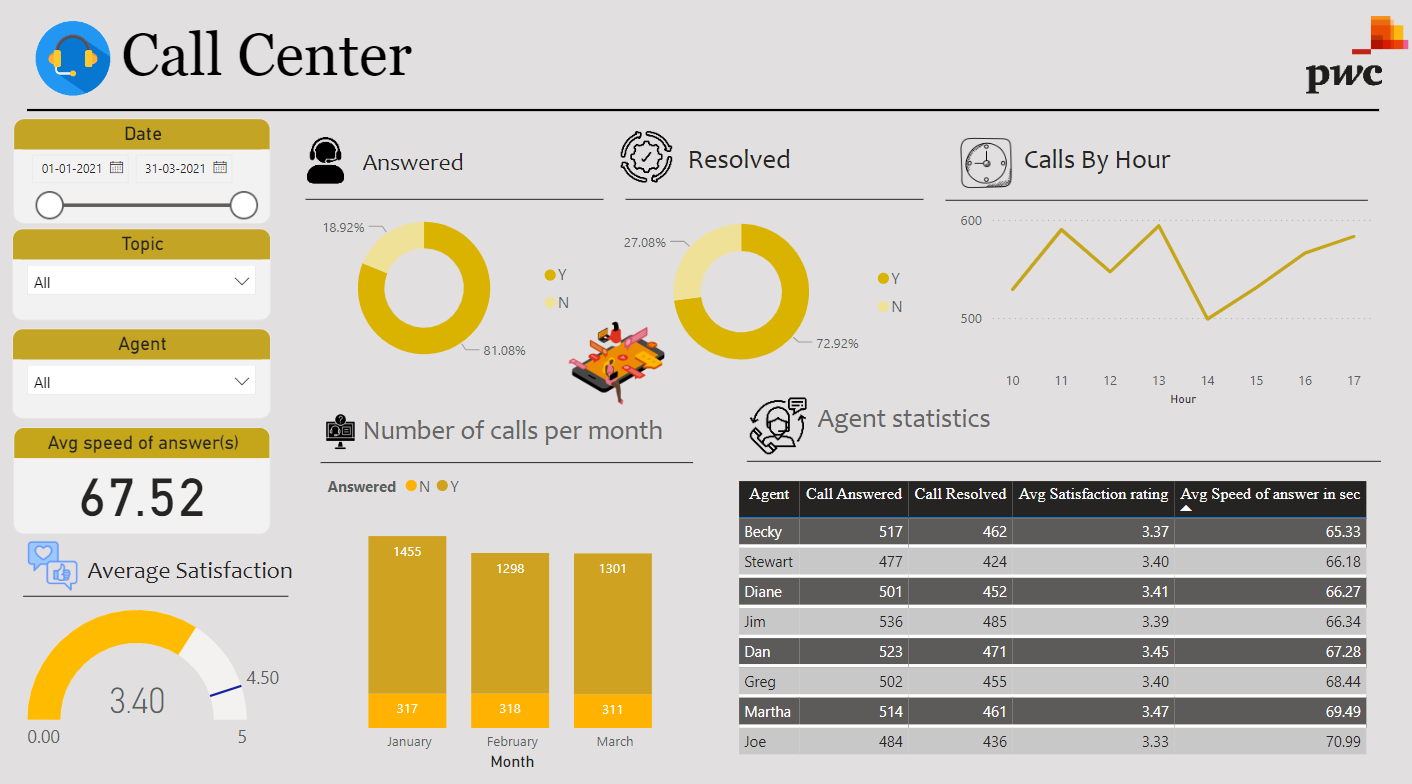

This screenshot's page, from the dashboard's own definition file:
{"tool":"powerbi","page":{"name":"Page 1","canvas":[1280,720],"ordinal":0},"visuals":[{"type":"image","box":[1173.9,0,106.2,107.4],"z":0},{"type":"shape","box":[26.9,95.4,1219.2,12.2],"z":1000},{"type":"textbox","box":[107.6,17.1,310.6,74.6],"z":2000},{"type":"image","box":[29,16.9,78.4,77.2],"z":3000},{"type":"donutChart","fields":{"Category":["Call center data.Answered (Y/N)"],"Y":["Call center data.Call Id"]},"box":[272.7,173.6,258,178],"z":4000},{"type":"tableEx","fields":{"Values":["Call center data.Agent","Call center data.No. of call Answered","Call center data.No. of call Resolved","Call center data.Satisfaction rating","Call center data.Speed of answer in seconds"]},"box":[662.8,431.7,583.3,260.5],"z":5000},{"type":"gauge","title":"Average Satisfaction","fields":{"Y":["Call center data.Satisfaction rating"],"TargetValue":["Call center data.Target Satisfaction Rating"],"MaxValue":["Sum(Call center data.Satisfaction rating)1"]},"box":[22.5,533.1,242.3,170.2],"z":6000},{"type":"donutChart","fields":{"Category":["Call center data.Resolved"],"Y":["Call center data.Call Id"]},"box":[544.8,178.4,286.8,175.6],"z":7000},{"type":"basicShape","box":[267.8,162.6,288.6,40.4],"z":8000},{"type":"textbox","box":[324.1,130.8,122.3,42.8],"z":9000},{"type":"image","box":[267.8,110.1,56.3,73.4],"z":10000},{"type":"basicShape","box":[556.4,162.6,288.6,40.4],"z":11000},{"type":"image","box":[556.4,116.2,57.5,56.3],"z":12000},{"type":"textbox","box":[617.5,126,117.4,42.8],"z":13000},{"type":"slicer","title":"Date","fields":{"Values":["Call center data.Date"]},"box":[14.7,108.8,232.3,95.4],"z":14000},{"type":"basicShape","box":[13.5,519.7,259.2,41.6],"z":15000},{"type":"textbox","box":[77,498.9,216.4,41.6],"z":16000},{"type":"image","box":[22,484.2,55,56.3],"z":17000},{"type":"slicer","title":"Topic","fields":{"Values":["Call center data.Topic"]},"box":[13.5,209,233.6,83.2],"z":18000},{"type":"slicer","title":"Agent","fields":{"Values":["Call center data.Agent"]},"box":[13.5,299,233.6,81.9],"z":19000},{"type":"card","title":"Avg speed of answer(s)","fields":{"Values":["Call center data.Speed of answer in seconds"]},"box":[14.7,387.6,232.3,96.6],"z":20000},{"type":"textbox","box":[920.8,126.2,269,42.5],"z":21000},{"type":"columnChart","fields":{"Category":["Call center data.Date.Variation.Date Hierarchy.Month"],"Y":["Call center data.Call Id"],"Series":["Call center data.Answered (Y/N)"]},"box":[293.5,420.7,343.6,282.5],"z":22000},{"type":"basicShape","box":[845.3,163.3,400.7,39.8],"z":23000},{"type":"image","box":[861.8,118,59,61.7],"z":24000},{"type":"basicShape","box":[666.4,404.8,591.9,28.1],"z":25000},{"type":"image","box":[465.9,264.1,196.9,122.3],"z":26000},{"type":"textbox","box":[734.9,359.5,193.2,50.1],"z":27000},{"type":"image","box":[673.8,353.4,61.1,66],"z":28000},{"type":"textbox","box":[324.1,370.5,298.4,47.7],"z":29000},{"type":"image","box":[278.8,366.8,62.4,51.4],"z":30000},{"type":"basicShape","box":[281.3,398.6,355.8,41.6],"z":31000},{"type":"lineChart","fields":{"Category":["Call center data.Call Hour"],"Y":["Call center data.Call Id"]},"box":[863.1,186.6,382.8,186.6],"z":32000}]}

Visuals, with their boxes in screenshot pixels (x1, y1, x2, y2), scaled from the page's 1280x720 canvas onto the 1412x784 screenshot:
image: 1295/0/1411/117
shape: 30/104/1375/117
textbox: 119/19/461/100
image: 32/18/118/102
donutChart - Call center data.Answered (Y/N) x Call center data.Call Id: 301/189/585/383
tableEx - Call center data.Agent x Call center data.No. of call Answered: 731/470/1375/754
"Average Satisfaction" gauge: 25/580/292/766
donutChart - Call center data.Resolved x Call center data.Call Id: 601/194/917/385
basicShape: 295/177/614/221
textbox: 358/142/492/189
image: 295/120/358/200
basicShape: 614/177/932/221
image: 614/127/677/188
textbox: 681/137/811/184
"Date" slicer: 16/118/272/222
basicShape: 15/566/301/611
textbox: 85/543/324/589
image: 24/527/85/589
"Topic" slicer: 15/228/273/318
"Agent" slicer: 15/326/273/415
"Avg speed of answer(s)" card: 16/422/272/527
textbox: 1016/137/1312/184
columnChart - Call center data.Date.Variation.Date Hierarchy.Month x Call center data.Call Id: 324/458/703/766
basicShape: 932/178/1374/221
image: 951/128/1016/196
basicShape: 735/441/1388/471
image: 514/288/731/421
textbox: 811/391/1024/446
image: 743/385/811/457
textbox: 358/403/687/455
image: 308/399/376/455
basicShape: 310/434/703/479
lineChart - Call center data.Call Hour x Call center data.Call Id: 952/203/1374/406
